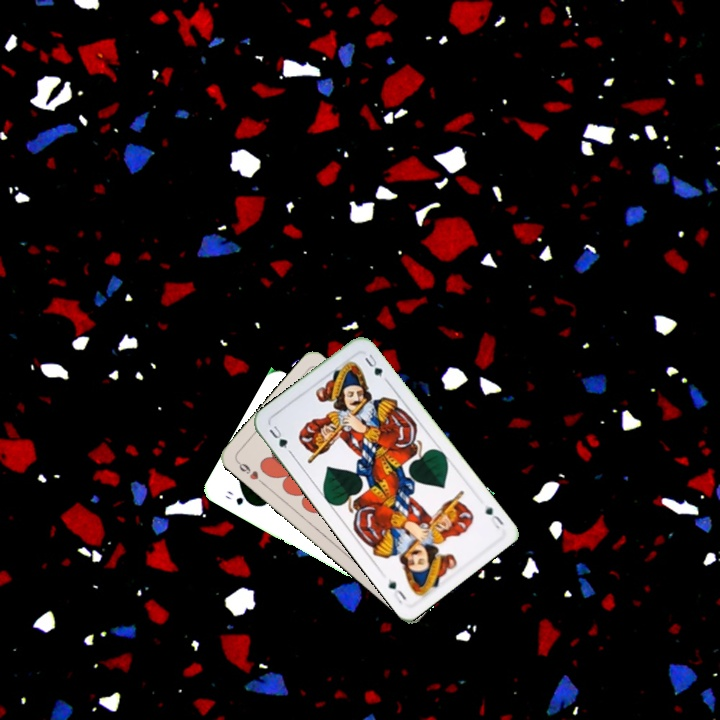GO: (221, 487, 256, 508)
GU: (480, 501, 506, 531), (265, 421, 290, 451)
H9: (233, 457, 267, 487)
